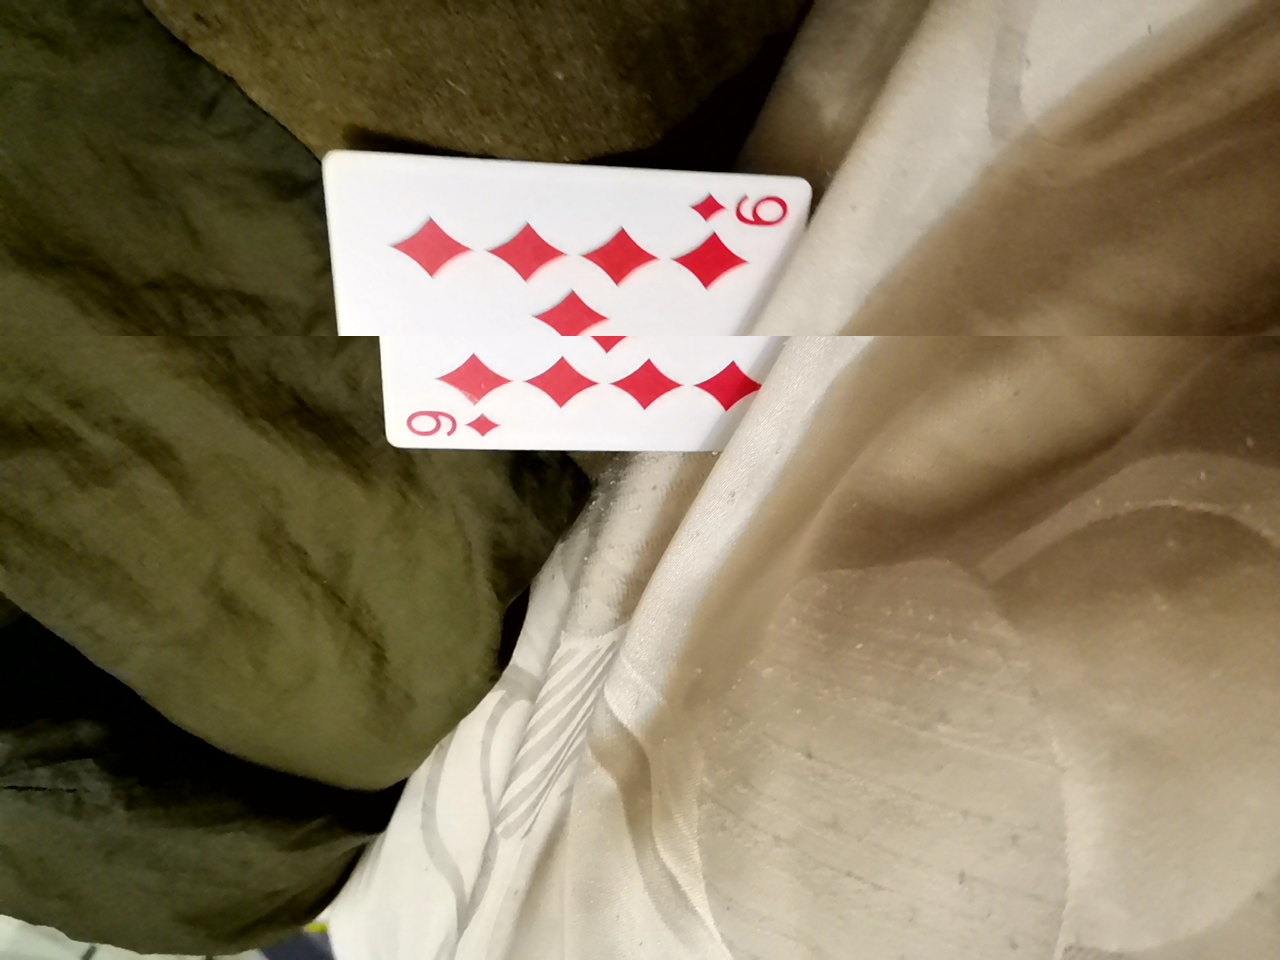fk 9: (311, 147, 798, 478)
